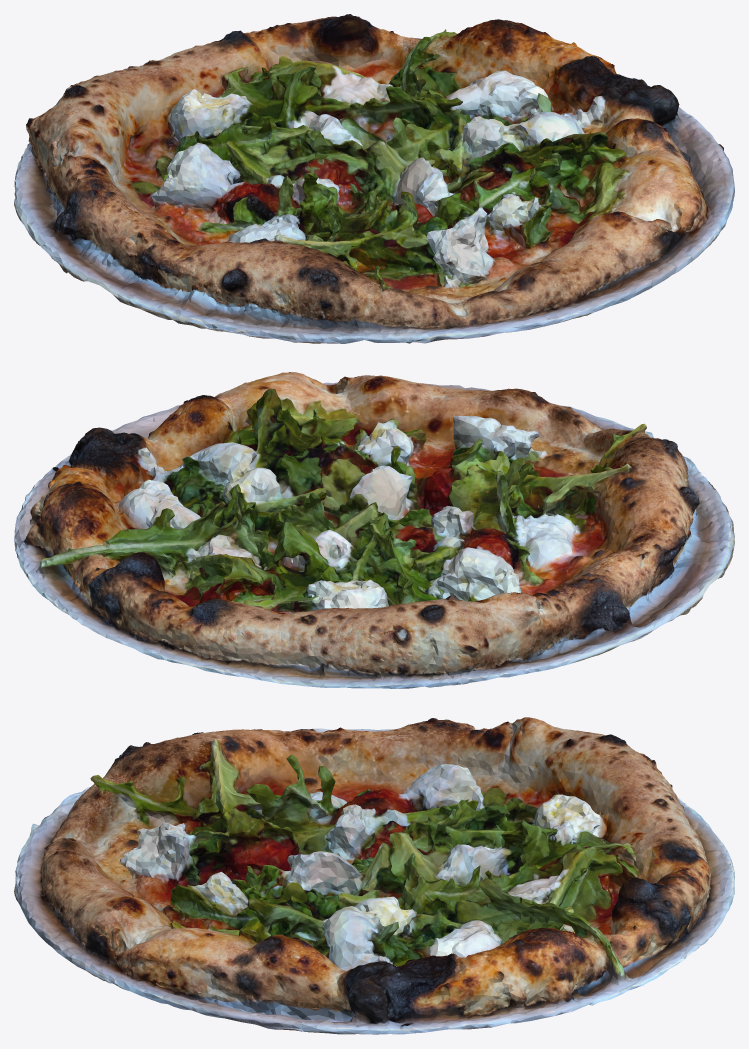
The model's file is dish5.glb.
3 views of the same model, one above another, from view 1: azimuth 30°, elevation 25°; view 2: azimuth 150°, elevation 25°; view 3: azimuth 270°, elevation 25° (orthographic).
Visible parts, largest first — view 1: model_New Qlone_20250524_101820300; view 2: model_New Qlone_20250524_101820300; view 3: model_New Qlone_20250524_101820300.
Boxes of the visible parts, x1,y1,x2,y2 form: model_New Qlone_20250524_101820300: [14, 14, 734, 343]; model_New Qlone_20250524_101820300: [14, 372, 734, 688]; model_New Qlone_20250524_101820300: [14, 717, 734, 1034].
Size of the model in its own units: 293 by 40.65 by 293.
1 material, 1 textured.
